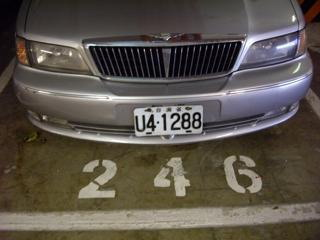plate: (132, 105, 204, 136)
